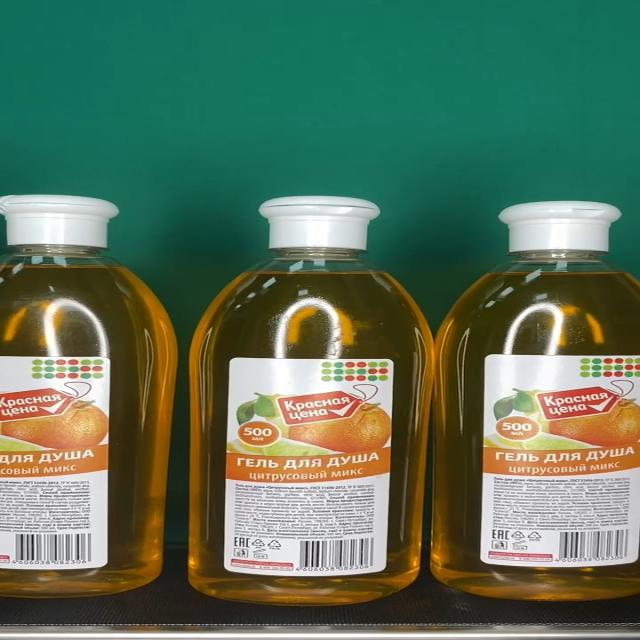Bottle: (190, 195, 438, 604), (430, 200, 640, 600), (0, 195, 179, 597)
Cap: (497, 201, 622, 254), (259, 196, 381, 249), (0, 195, 120, 248)
